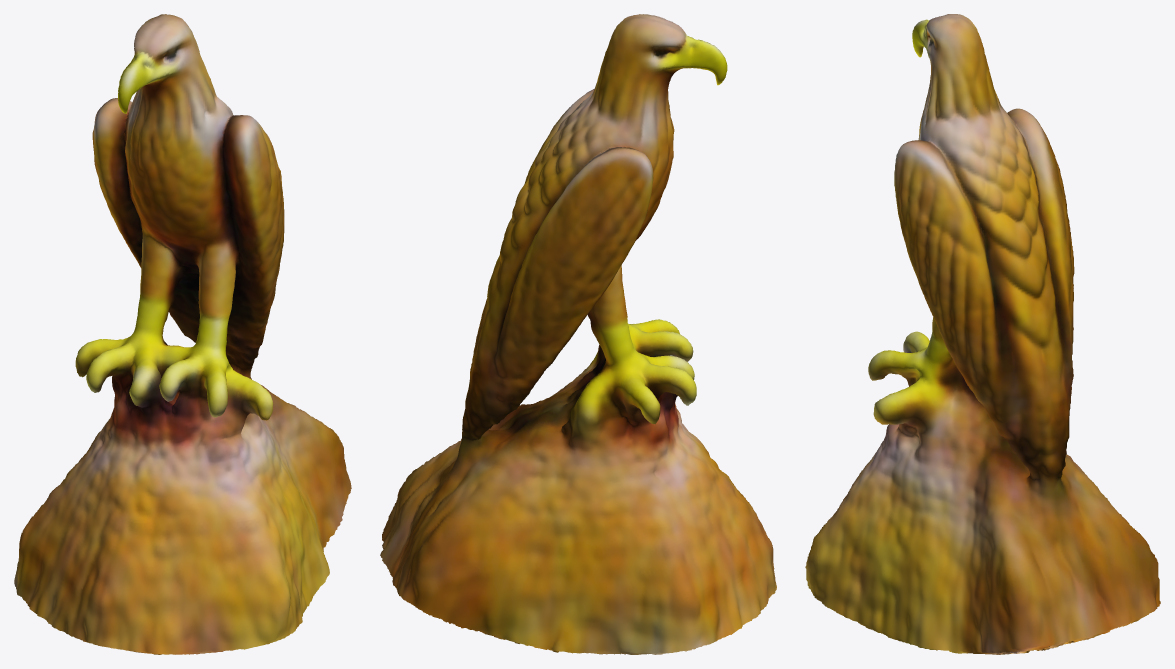
File: 44853505_sept18_hero15_145a_bald_eagle_carved_out_of_wood_1step.glb
3 views of the same model, side by side, from view 1: azimuth 30°, elevation 25°; view 2: azimuth 150°, elevation 25°; view 3: azimuth 270°, elevation 25° (orthographic). The views are drawn at different scales.
Visible parts, largest first — view 1: world; view 2: world; view 3: world.
Part boxes in pixels (x1,y1,x2,y2): world: [14, 14, 351, 654]; world: [380, 14, 776, 654]; world: [805, 14, 1160, 654].
Bounding box in the file's own units: 4.98 × 8.64 × 4.77.
